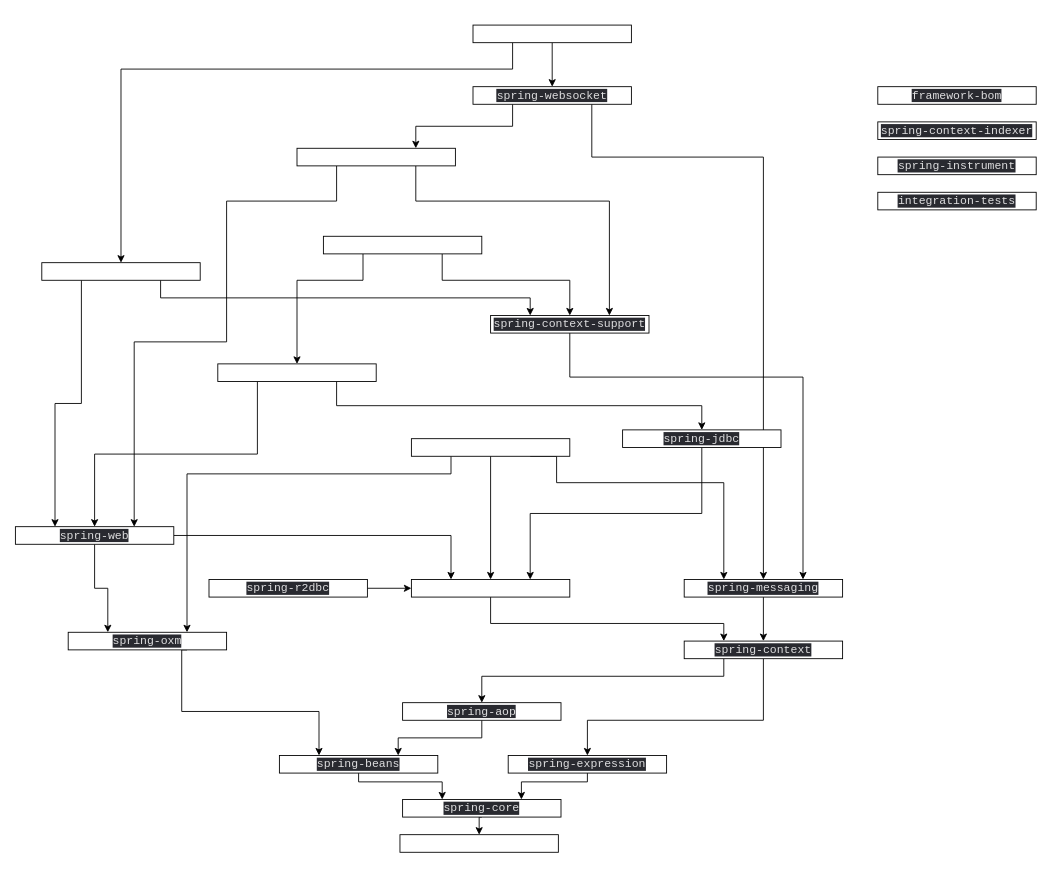
This 1052x876 diagram has some shape labels left out. Here are the shapes that lost their labels. From the top down, the centre of each, then its label:
point 551,33: spring-test
point 375,156: spring-webmvc
point 402,244: spring-aspects
point 120,271: spring-webflux
point 296,372: spring-orm
point 490,447: spring-jms
point 490,588: spring-tx
point 478,843: spring-jcl
